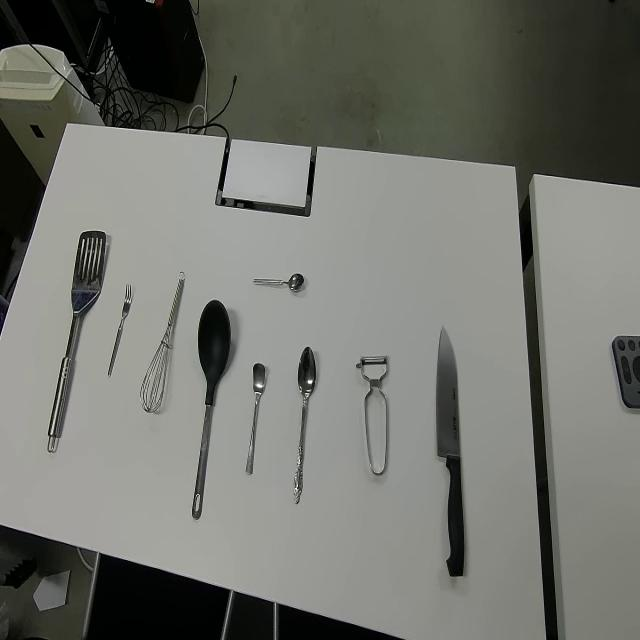Desert-Spoon: (293, 343, 317, 504)
Dinner-Fork: (106, 283, 132, 382)
Kitchen-Knife: (434, 323, 464, 579)
Peeler: (354, 352, 389, 476)
Serving-Spoon: (45, 230, 106, 457), (190, 296, 231, 520)
Tea-Spoon: (244, 360, 265, 475), (252, 269, 306, 293)
Whisk: (138, 268, 185, 414)
